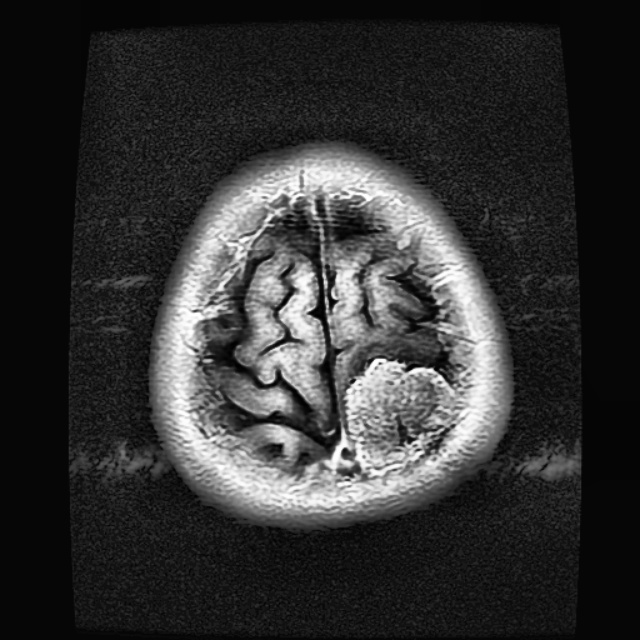Glioma: (343, 355, 455, 472)
